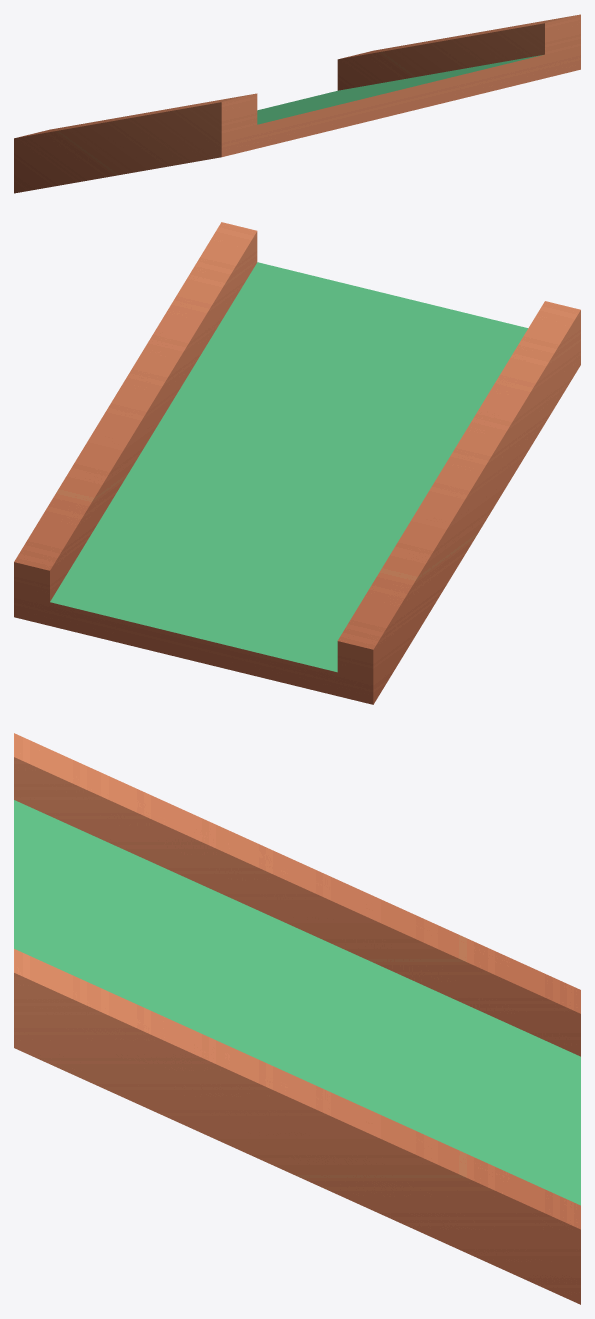
Rendered from ramp_high.glb.
3 views of the same model, one above another, from view 1: azimuth 30°, elevation 25°; view 2: azimuth 150°, elevation 25°; view 3: azimuth 270°, elevation 25° (orthographic). The views are drawn at different scales.
Visible parts, largest first — view 1: ramp-high; view 2: ramp-high; view 3: ramp-high.
Boxes of the visible parts, x1,y1,x2,y2 form: ramp-high: (14,14,580,193); ramp-high: (14,222,580,704); ramp-high: (14,733,580,1304).
Bounding box in the file's own units: 0.9999 × 0.6467 × 0.9999.
Materials: 1 (1 with a texture image).
